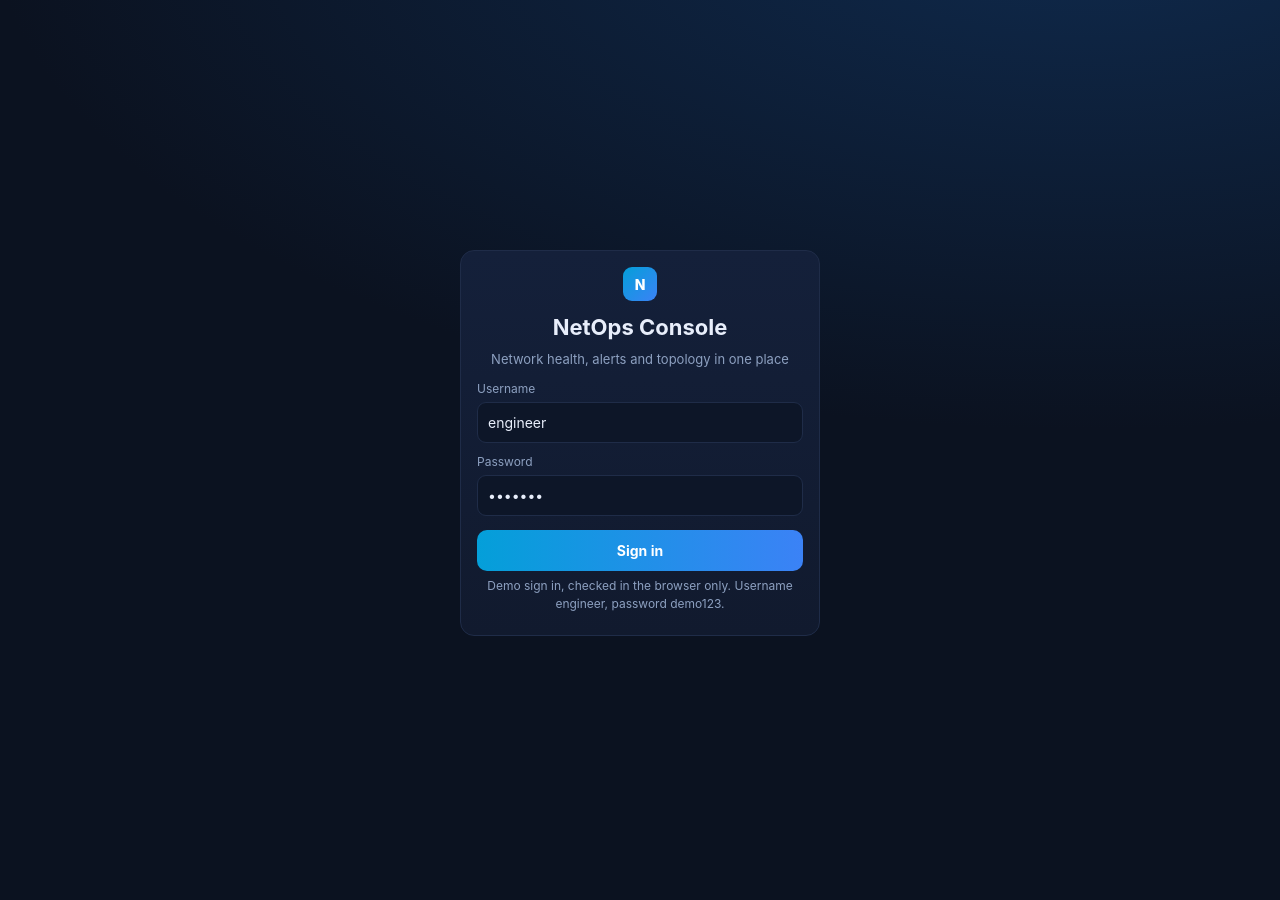
Test: App › lists alerts and acknowledges one
Click the button "Sign in" at point(640, 550), box x1=477 y1=530 x2=803 y2=571
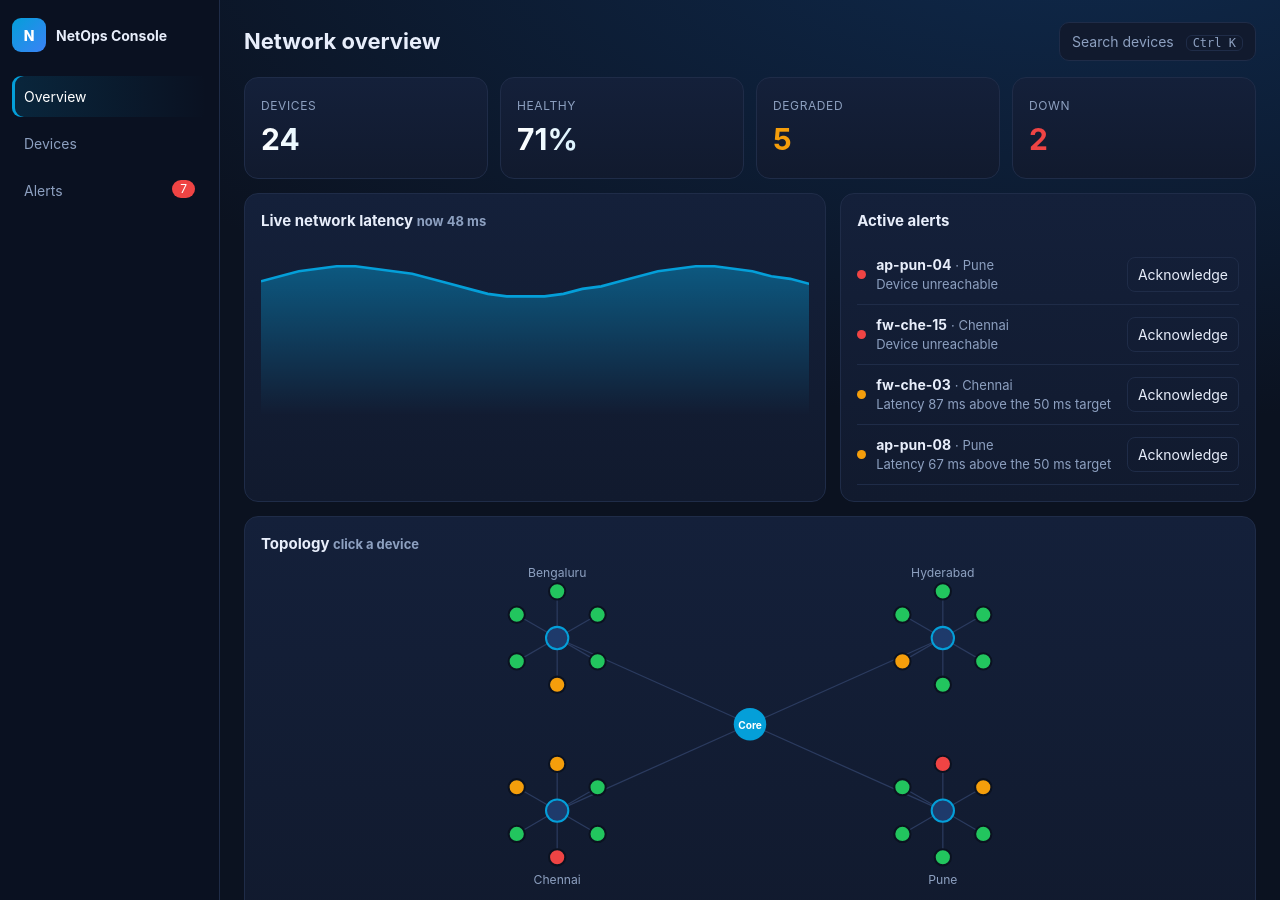
Click the button "Alerts 7" at point(110, 190), box x1=12 y1=170 x2=207 y2=211
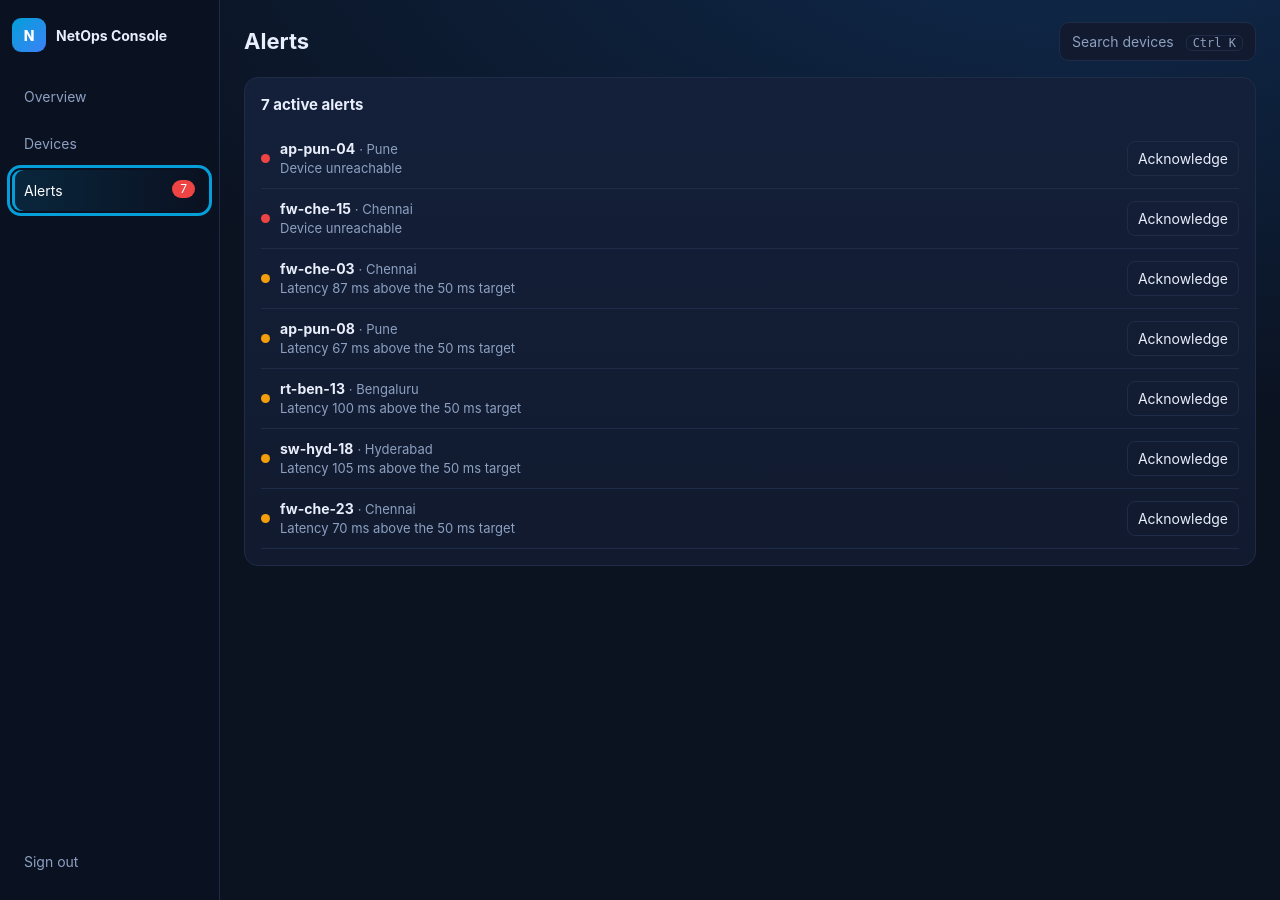
Now the heading "7 active alerts" is shown, box x1=261 y1=95 x2=364 y2=114
Now the text "Device unreachable" is shown 2 times, box x1=280 y1=160 x2=402 y2=176; x1=280 y1=220 x2=402 y2=236
Click the button "Acknowledge" in the row of "ap-pun-04" at point(1183, 158), box x1=1127 y1=140 x2=1239 y2=176
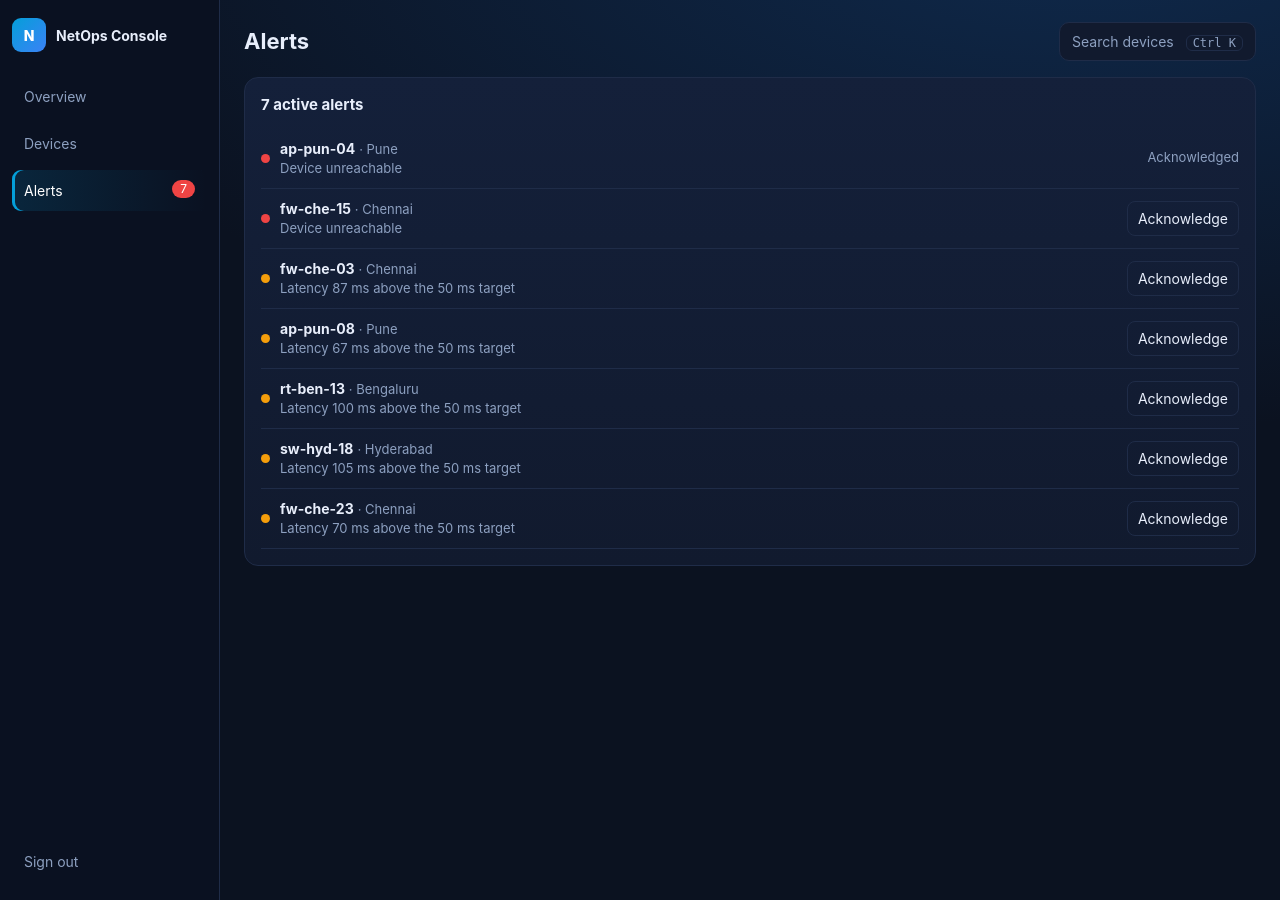
Now the text "Acknowledged" is shown, box x1=1147 y1=148 x2=1239 y2=168
